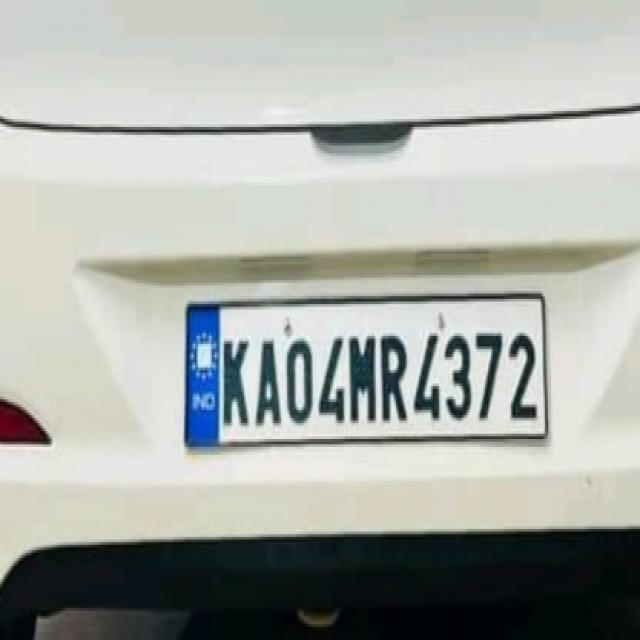0: (284, 334, 316, 432)
3: (445, 326, 474, 428)
4: (412, 322, 444, 427), (316, 328, 348, 426)
7: (474, 321, 504, 426)
A: (254, 331, 285, 434)
K: (221, 334, 251, 434)
M: (343, 326, 380, 427)
R: (378, 324, 410, 428)
